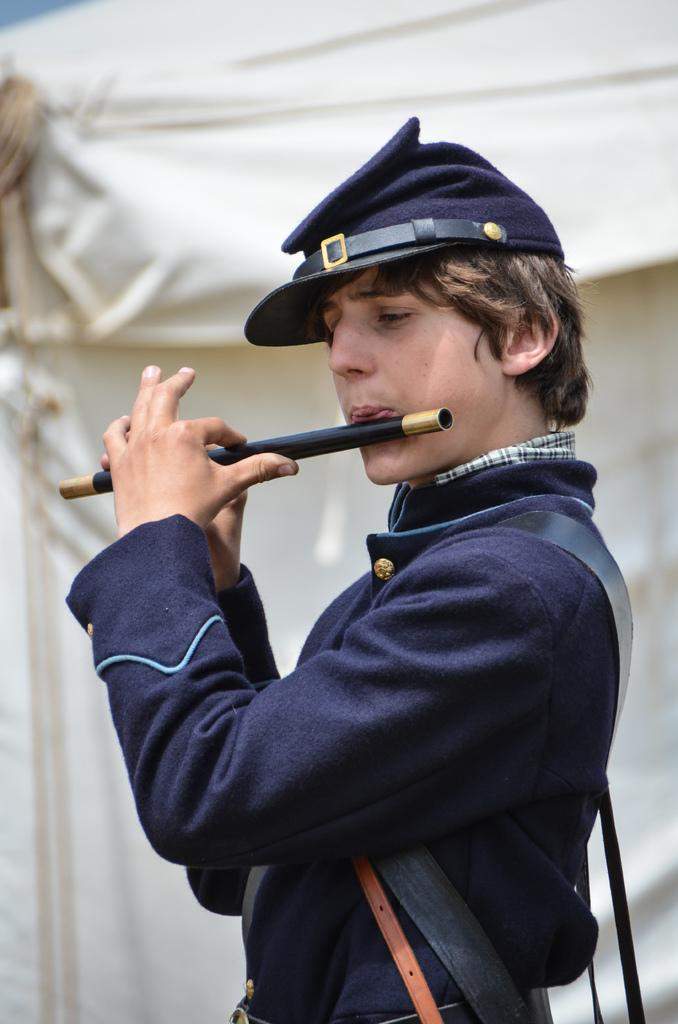Hat: (244, 114, 571, 346)
